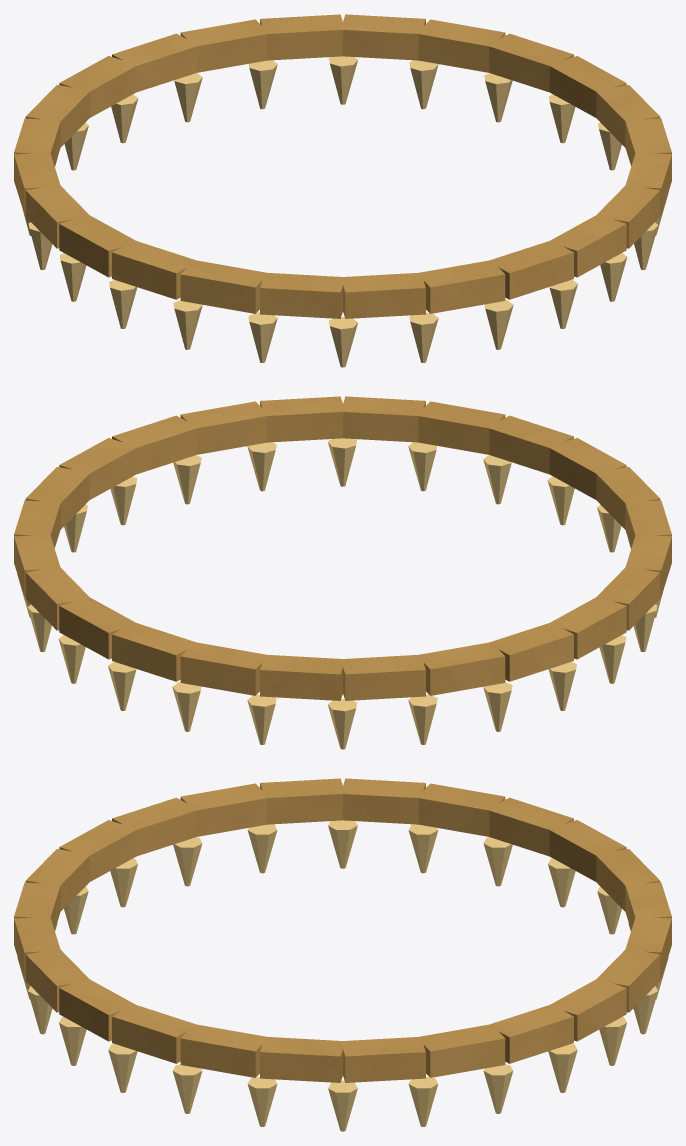
The model's file is SM_Theater_Lamp_ChandelierRing.fbx.
The picture shows the model from 3 angles, top to bottom: view 1: azimuth 30°, elevation 25°; view 2: azimuth 150°, elevation 25°; view 3: azimuth 270°, elevation 25°; orthographic projection.
Visible parts, largest first — view 1: SM_Theater_Lamp_ChandelierRing_LOD0; view 2: SM_Theater_Lamp_ChandelierRing_LOD0; view 3: SM_Theater_Lamp_ChandelierRing_LOD0.
Part boxes in pixels (x1=…): SM_Theater_Lamp_ChandelierRing_LOD0: x1=14, y1=14, x2=671, y2=367; SM_Theater_Lamp_ChandelierRing_LOD0: x1=14, y1=396, x2=671, y2=749; SM_Theater_Lamp_ChandelierRing_LOD0: x1=14, y1=778, x2=671, y2=1131.
Size of what is drawn, in the model's own units: 2.88 by 0.394 by 2.88.
